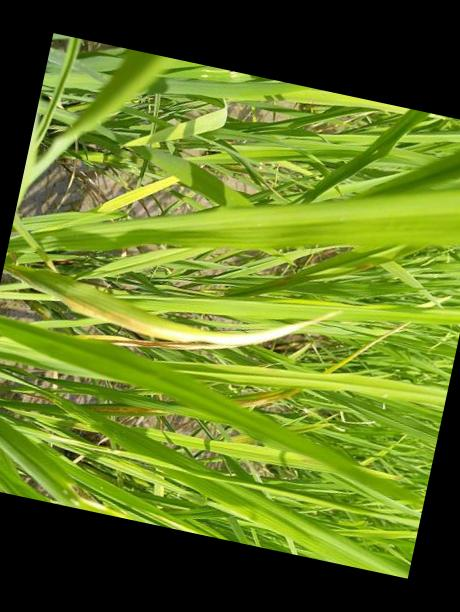Leaf Blight: (23, 271, 336, 348), (320, 322, 402, 375), (230, 388, 300, 408), (88, 405, 159, 419)
